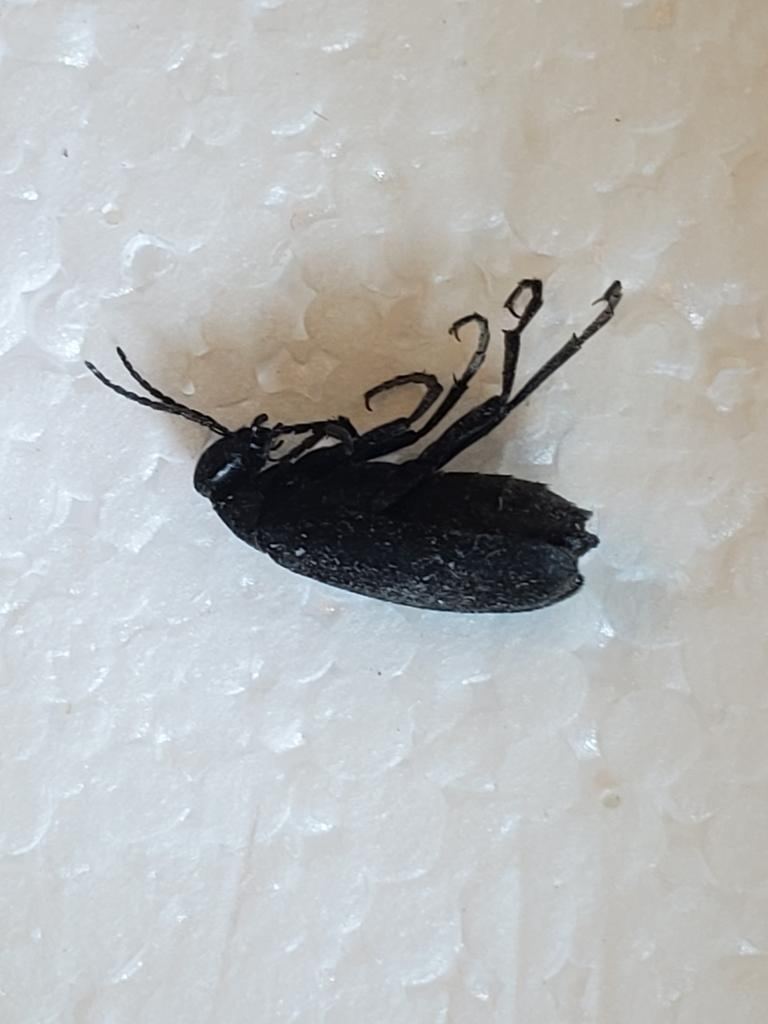blister_beetle: (41, 243, 666, 715)
